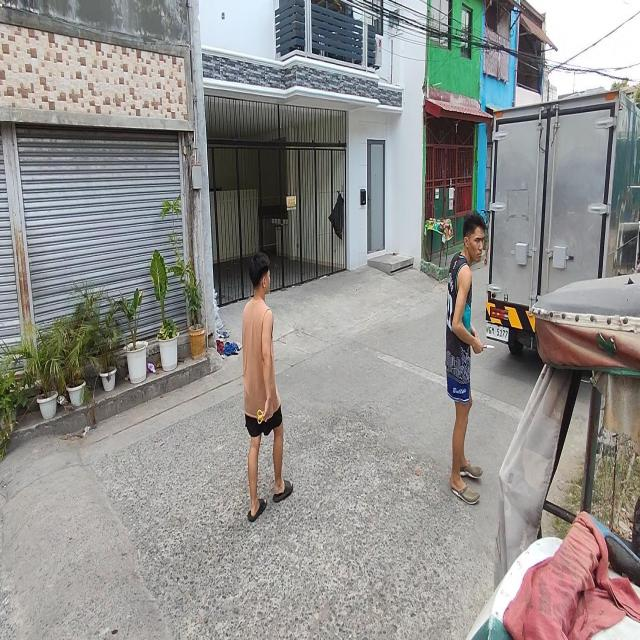scissor: (258, 409, 272, 423)
